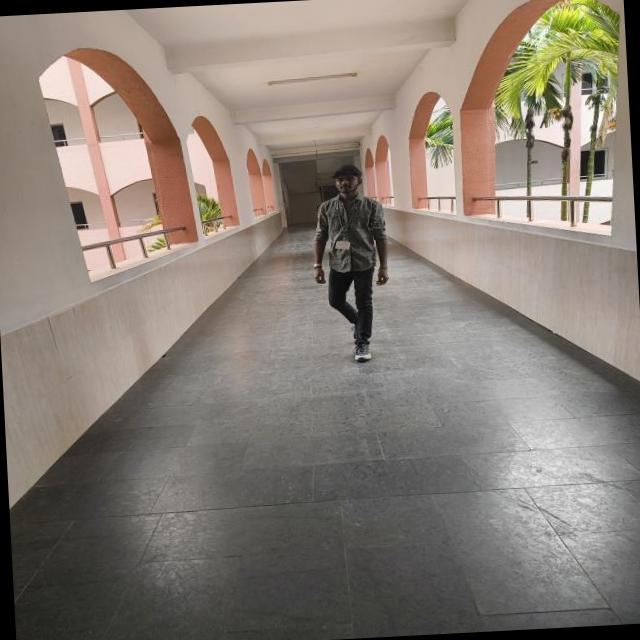id_card: (332, 196, 359, 254)
